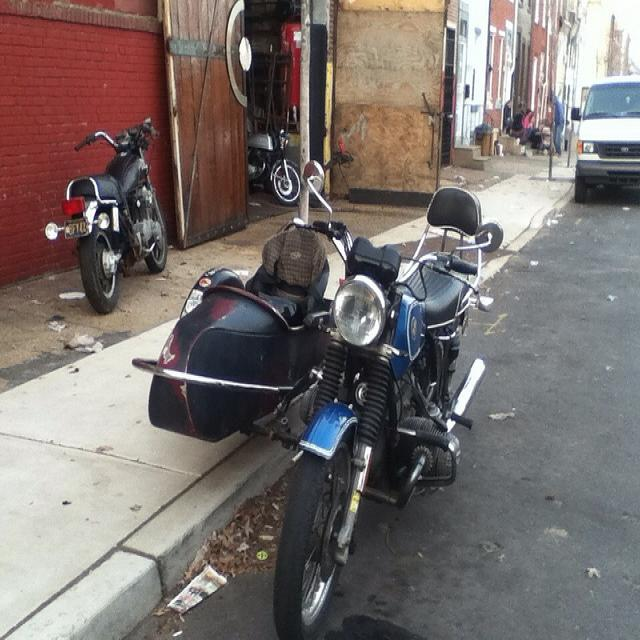motor: (133, 158, 500, 630), (45, 120, 169, 302), (246, 122, 302, 205)
